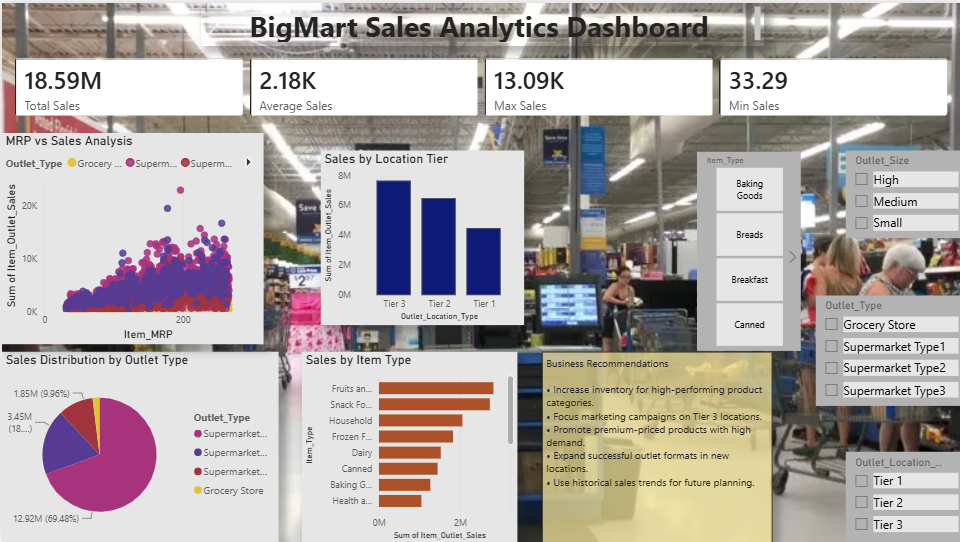

This screenshot's page, from the dashboard's own definition file:
{"tool":"powerbi","page":{"name":"Big Market Sales","canvas":[1280,720],"ordinal":0},"visuals":[{"type":"cardVisual","fields":{"Data":["Train.Total Sales","Train.Average Sales","Train.Max Sales","Train.Min Sales"]},"box":[0,57.1,1280,111.4],"z":0},{"type":"clusteredBarChart","title":"Sales by Item Type","fields":{"Category":["Train.Item_Type"],"Y":["Sum(Train.Item_Outlet_Sales)"]},"box":[400,464.3,287.1,255.7],"z":1},{"type":"pieChart","title":"Sales Distribution by Outlet Type","fields":{"Category":["Train.Outlet_Type"],"Y":["Sum(Train.Item_Outlet_Sales)"]},"box":[0,464.3,368.6,255.7],"z":2},{"type":"clusteredColumnChart","title":"Sales by Location Tier","fields":{"Category":["Train.Outlet_Location_Type"],"Y":["Sum(Train.Item_Outlet_Sales)"]},"box":[425.7,197.1,271.4,232.9],"z":3},{"type":"scatterChart","title":"MRP vs Sales Analysis","fields":{"X":["Train.Item_MRP"],"Y":["Sum(Train.Item_Outlet_Sales)"],"Series":["Train.Outlet_Type"]},"box":[0,172.9,348.6,281.4],"z":4},{"type":"slicer","fields":{"Values":["Train.Item_Type"]},"box":[927.1,198.6,138.6,265.7],"z":5},{"type":"slicer","fields":{"Values":["Train.Outlet_Size"]},"box":[1124.3,197.1,155.7,117.1],"z":6},{"type":"slicer","fields":{"Values":["Train.Outlet_Location_Type"]},"box":[1124.3,598.6,155.7,121.4],"z":7},{"type":"slicer","fields":{"Values":["Train.Outlet_Type"]},"box":[1084.3,390,195.7,147.1],"z":8},{"type":"textbox","box":[264.3,0,751.4,57.1],"z":9},{"type":"textbox","box":[720,464.3,307.1,255.7],"z":10}]}

Visuals, with their boxes in screenshot pixels (x1, y1, x2, y2), scaled from the page's 1280x720 canvas onto the 960x542 screenshot:
cardVisual - Train.Total Sales x Train.Average Sales: [x1=0, y1=43, x2=959, y2=127]
"Sales by Item Type" clusteredBarChart: [x1=300, y1=350, x2=515, y2=541]
"Sales Distribution by Outlet Type" pieChart: [x1=0, y1=350, x2=276, y2=541]
"Sales by Location Tier" clusteredColumnChart: [x1=319, y1=148, x2=523, y2=324]
"MRP vs Sales Analysis" scatterChart: [x1=0, y1=130, x2=261, y2=342]
slicer - Train.Item_Type: [x1=695, y1=150, x2=799, y2=350]
slicer - Train.Outlet_Size: [x1=843, y1=148, x2=959, y2=237]
slicer - Train.Outlet_Location_Type: [x1=843, y1=451, x2=959, y2=541]
slicer - Train.Outlet_Type: [x1=813, y1=294, x2=959, y2=404]
textbox: [x1=198, y1=0, x2=762, y2=43]
textbox: [x1=540, y1=350, x2=770, y2=541]
